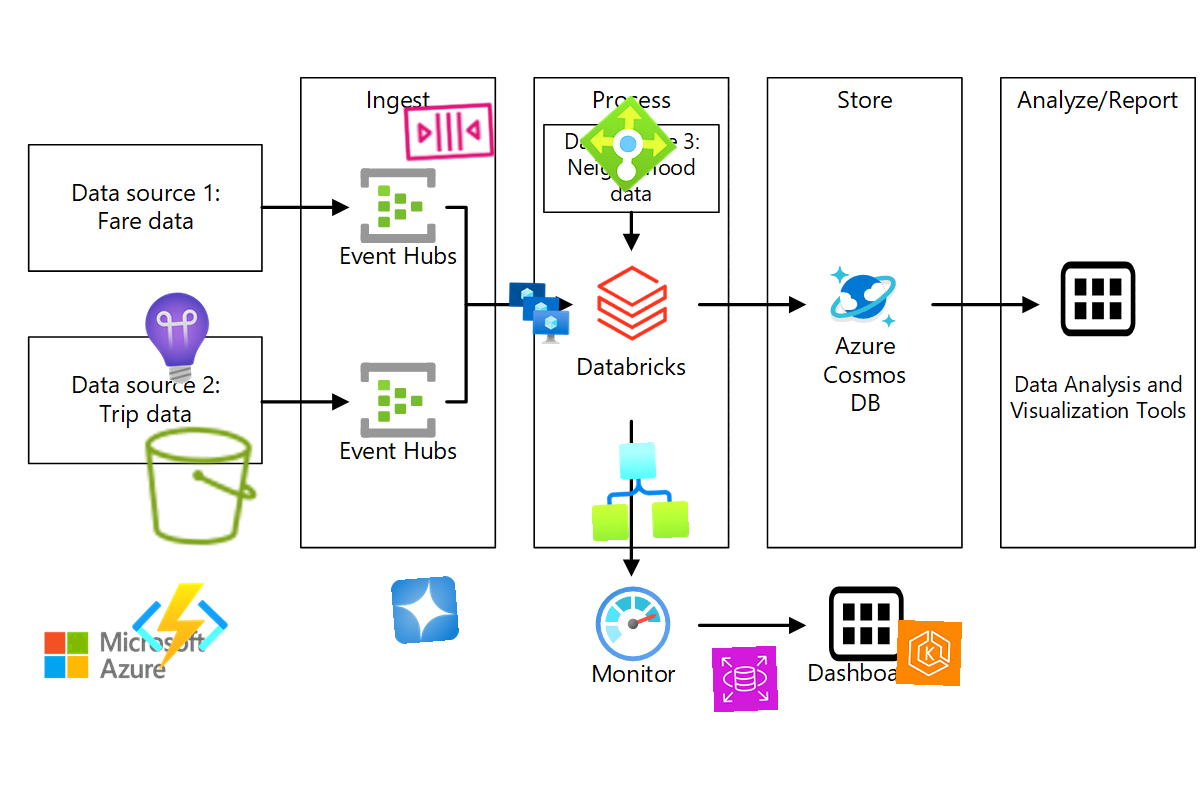aws_amazon_elastic_kubernetes_service: (895, 619, 963, 687)
aws_amazon_rds: (711, 645, 779, 713)
aws_simple_queue_service_queue: (398, 80, 500, 182)
aws_simple_storage_service_s3_standard: (133, 419, 267, 553)
azure_application_insights: (127, 287, 229, 389)
azure_function_apps: (131, 577, 229, 675)
azure_load_balancers: (577, 93, 679, 195)
azure_logic_apps: (588, 440, 690, 542)
azure_openai: (390, 575, 460, 645)
azure_vm_scale_sets: (505, 279, 571, 345)
